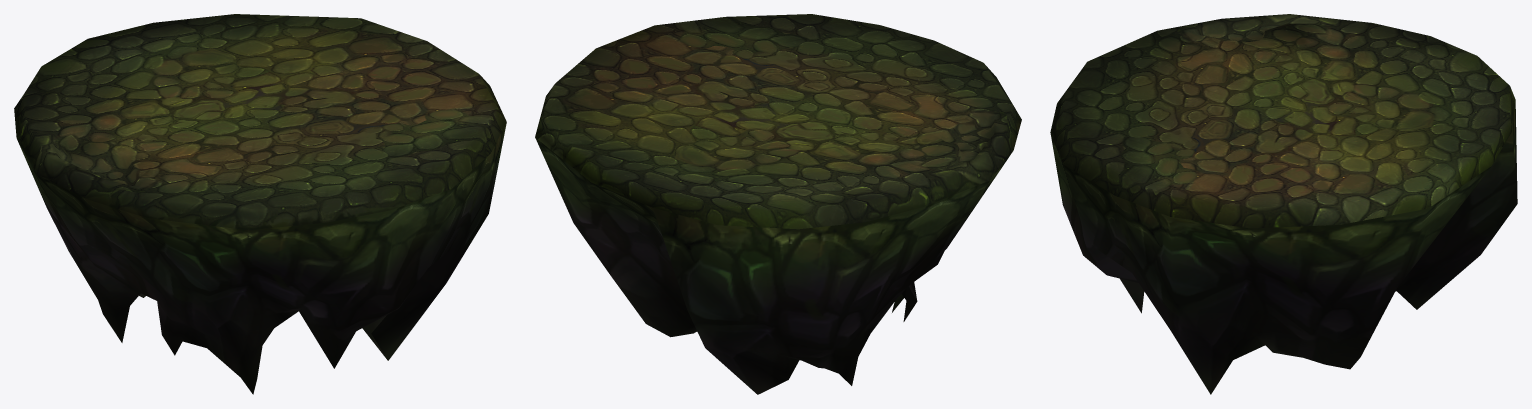
Rendered from Swamp_dizuo02.FBX.
3 views of the same model, side by side, from view 1: azimuth 30°, elevation 25°; view 2: azimuth 150°, elevation 25°; view 3: azimuth 270°, elevation 25° (orthographic). The views are drawn at different scales.
Parts seen in each view (by area): view 1: dizuo02; view 2: dizuo02; view 3: dizuo02.
Boxes of the visible parts, box(x1,y1,x2,y2) form: dizuo02: box(14, 14, 506, 394); dizuo02: box(535, 14, 1021, 394); dizuo02: box(1050, 14, 1517, 394).
Size of the model in its own units: 819 by 446 by 789.
